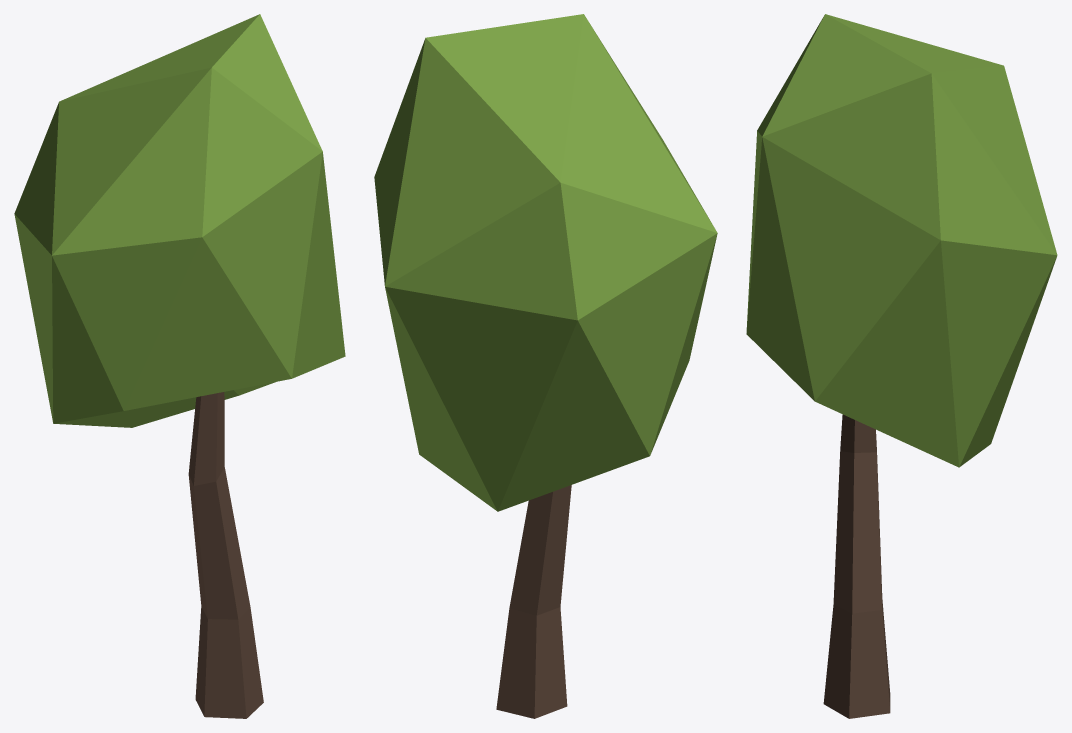
Rendered from TB_Env_RTree_Small_B.FBX.
3 views of the same model, side by side, from view 1: azimuth 30°, elevation 25°; view 2: azimuth 150°, elevation 25°; view 3: azimuth 270°, elevation 25° (orthographic). The views are drawn at different scales.
Parts seen in each view (by area): view 1: TB_Env_RTree_Small_B; view 2: TB_Env_RTree_Small_B; view 3: TB_Env_RTree_Small_B.
Part boxes in pixels (left/top/right/bottom): TB_Env_RTree_Small_B: left=14, top=14, right=345, bottom=718; TB_Env_RTree_Small_B: left=374, top=14, right=717, bottom=718; TB_Env_RTree_Small_B: left=746, top=14, right=1057, bottom=718.
Size of the model in its own units: 2.23 by 4.85 by 2.03.
